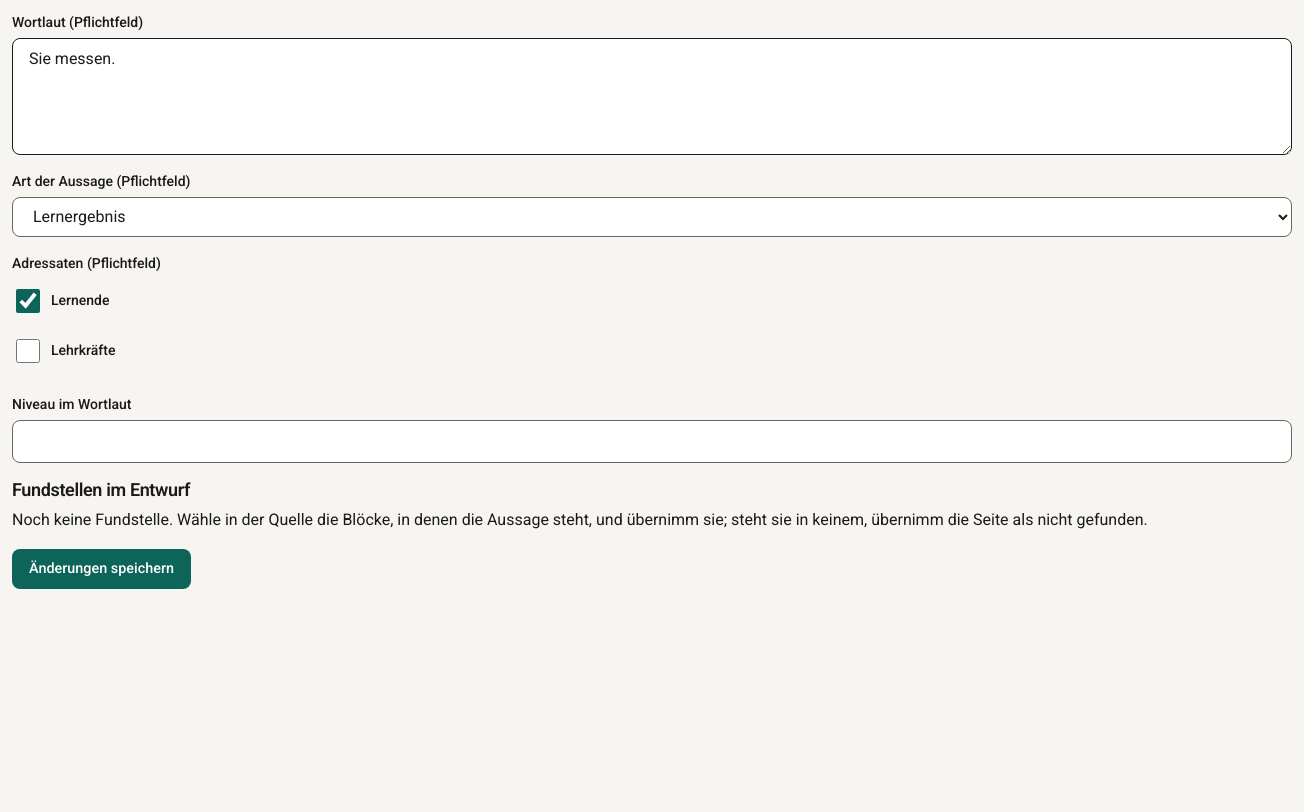
Test: a row's editor › says a failure above the form, which stays to try again
This screenshot has width=1304, height=812.
Replace the text in the text box labelled "Wortlaut (Pflichtfeld)" with "Neu." at (652, 96), box [12,38,1292,155]
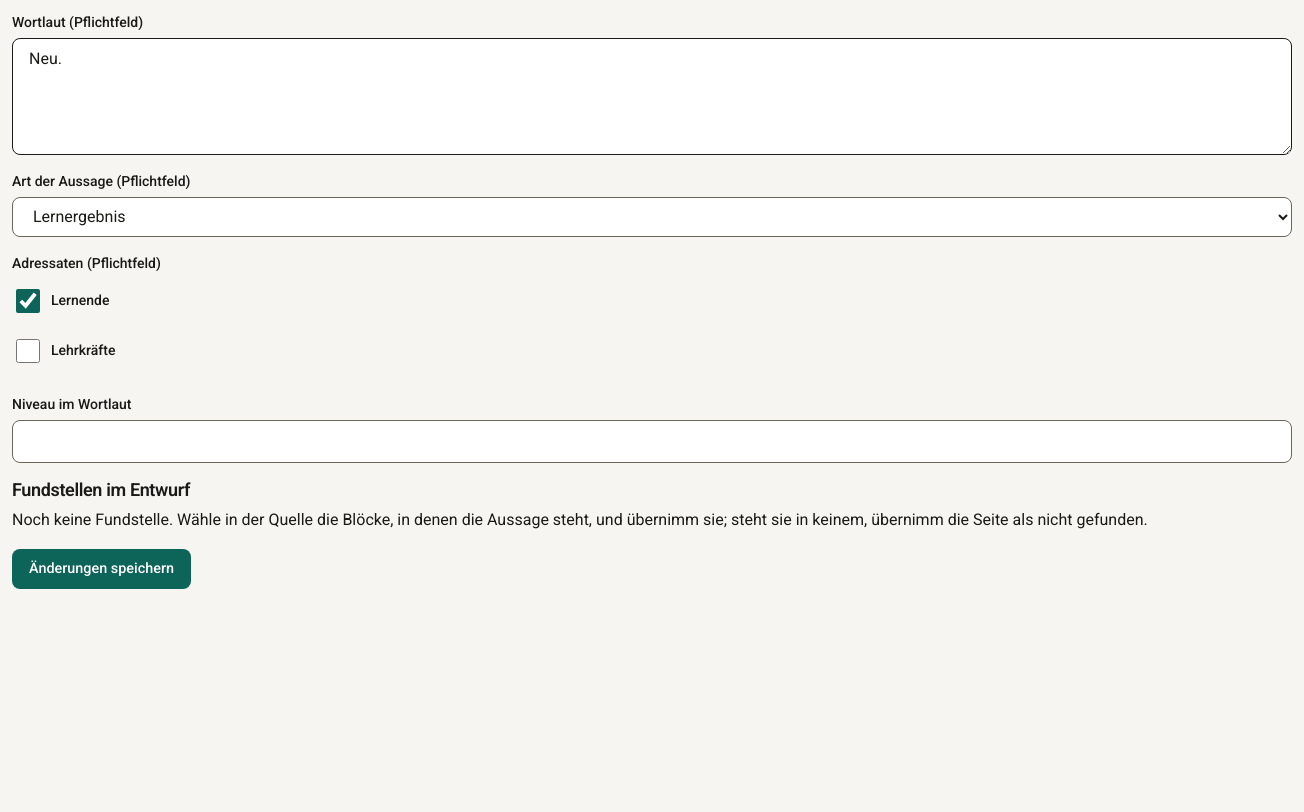
Submit the form
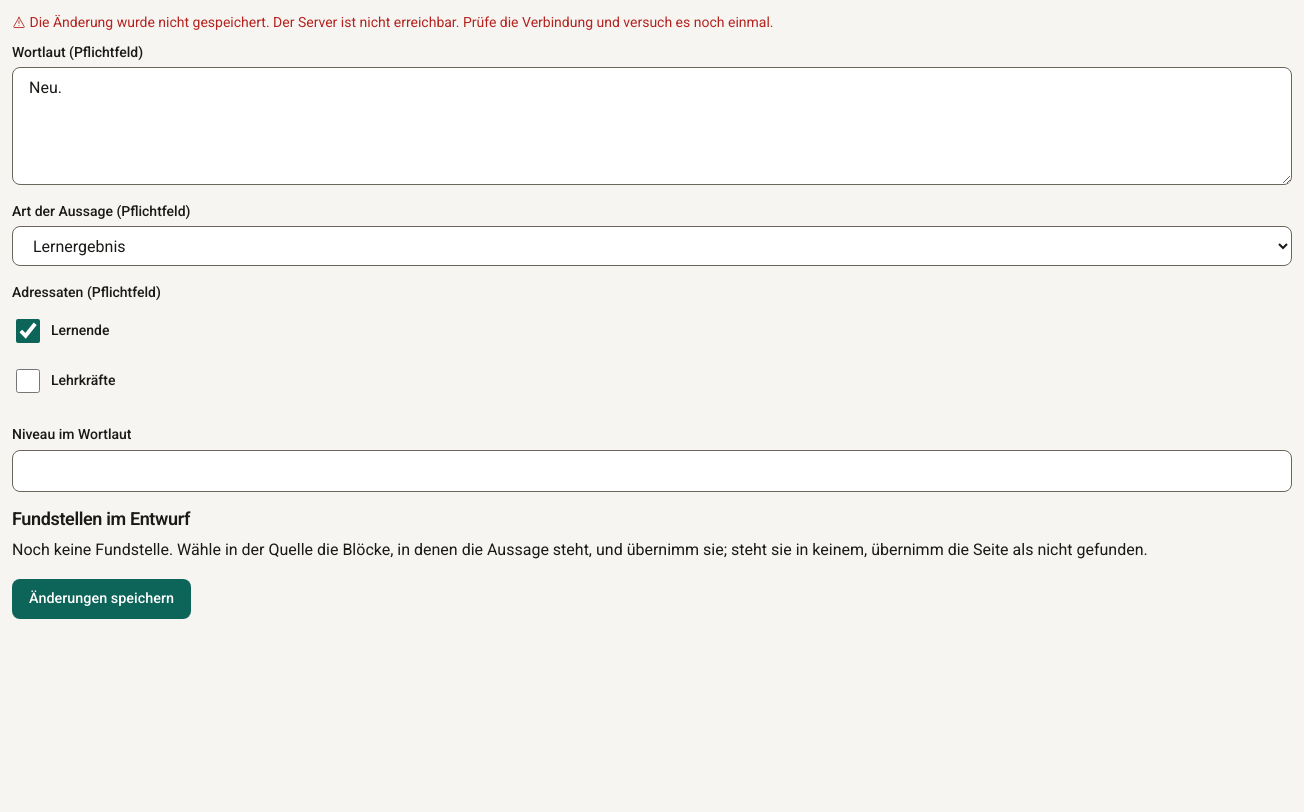
Check: the message with class "row-editor__problem" shows "Die Änderung wurde nicht gespeichert.", box [30,14,273,30]
